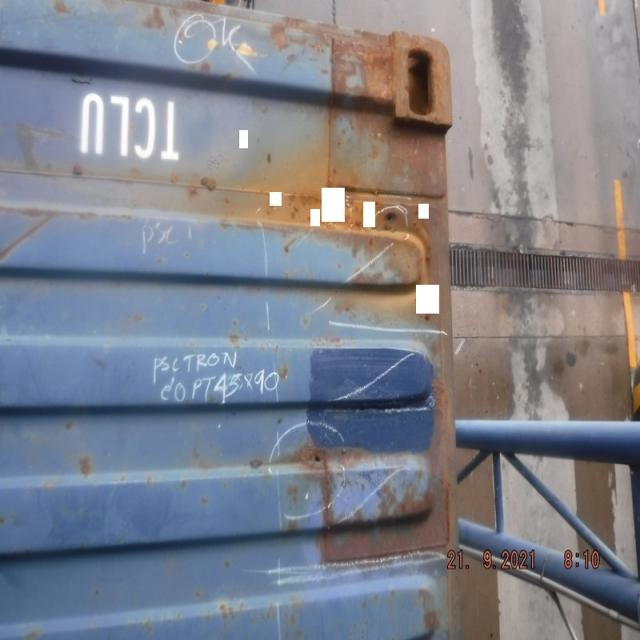hole: (302, 448, 330, 472), (385, 212, 399, 226)
